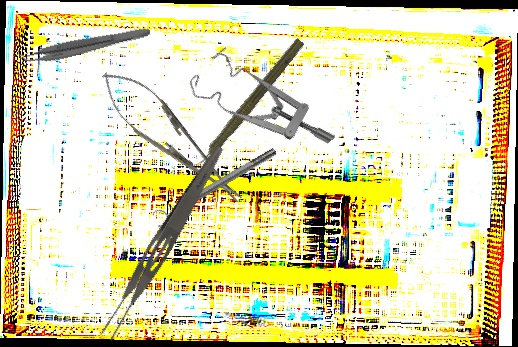Dressing Forceps: (96, 139, 228, 345)
Fixation Ring: (150, 142, 281, 231)
Handpiece: (184, 33, 308, 179)
Needle Holder: (88, 57, 255, 218)
Speculum: (181, 27, 337, 191)
Tissue Forceps: (17, 19, 152, 69)
